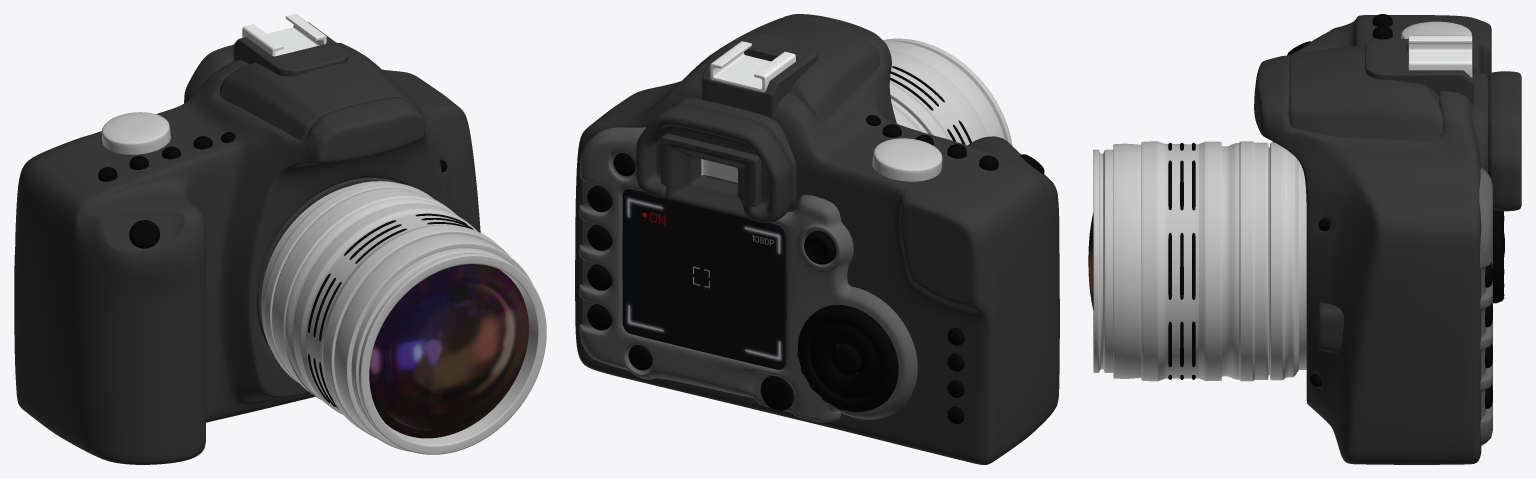
The model's file is Camera.fbx.
3 views of the same model, side by side, from view 1: azimuth 30°, elevation 25°; view 2: azimuth 150°, elevation 25°; view 3: azimuth 270°, elevation 25° (orthographic). The views are drawn at different scales.
Visible parts, largest first — view 1: DSLR Camera.Shape; view 2: DSLR Camera.Shape; view 3: DSLR Camera.Shape.
Part boxes in pixels (x1,y1,x2,y2): DSLR Camera.Shape: [14, 14, 546, 464]; DSLR Camera.Shape: [575, 14, 1059, 464]; DSLR Camera.Shape: [1088, 14, 1521, 464].
Bounding box in the file's own units: 14.54 × 11.02 × 12.61.
